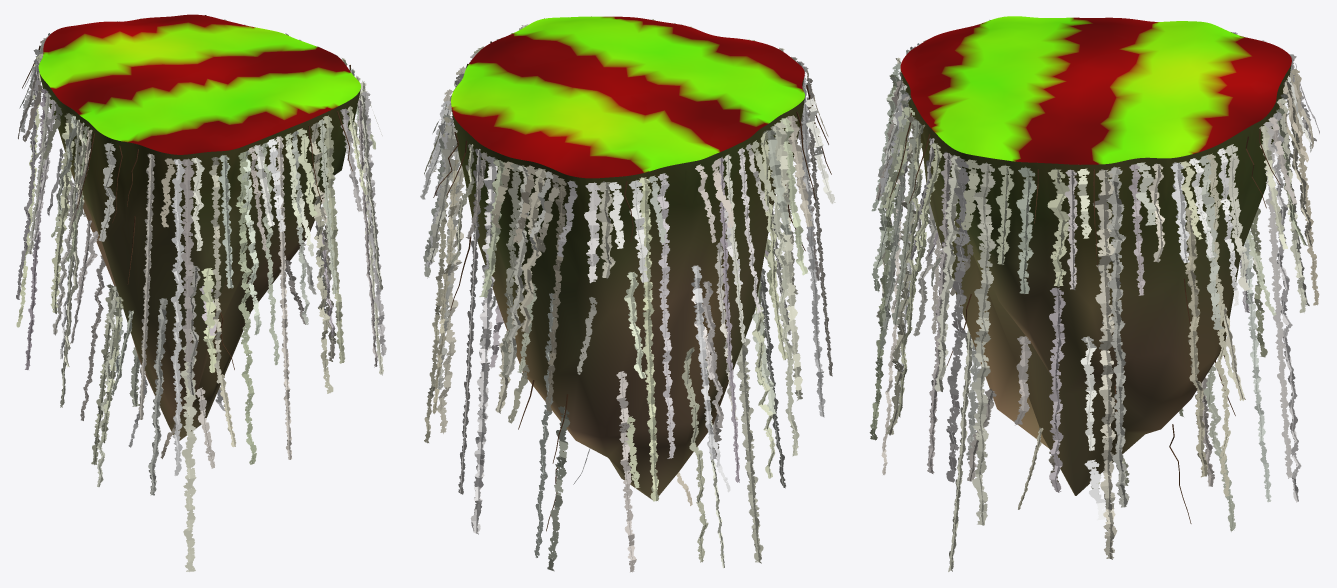
File: SM_H03_Floater05.fbx
3 renders of one model, left to right at view 1: azimuth 30°, elevation 25°; view 2: azimuth 150°, elevation 25°; view 3: azimuth 270°, elevation 25°, orthographic. The views are drawn at different scales.
Visible parts, largest first — view 1: SM_H03_Floater05, SM_H03_Floater05_Ivy; view 2: SM_H03_Floater05, SM_H03_Floater05_Ivy; view 3: SM_H03_Floater05, SM_H03_Floater05_Ivy.
Part boxes in pixels (x1,y1,x2,y2): SM_H03_Floater05: (38,14,360,440); SM_H03_Floater05_Ivy: (16,15,386,571); SM_H03_Floater05: (451,16,804,499); SM_H03_Floater05_Ivy: (420,16,835,572); SM_H03_Floater05: (900,16,1291,495); SM_H03_Floater05_Ivy: (869,20,1319,571).
Bounding box in the file's own units: 29.37 × 40.78 × 31.79.
